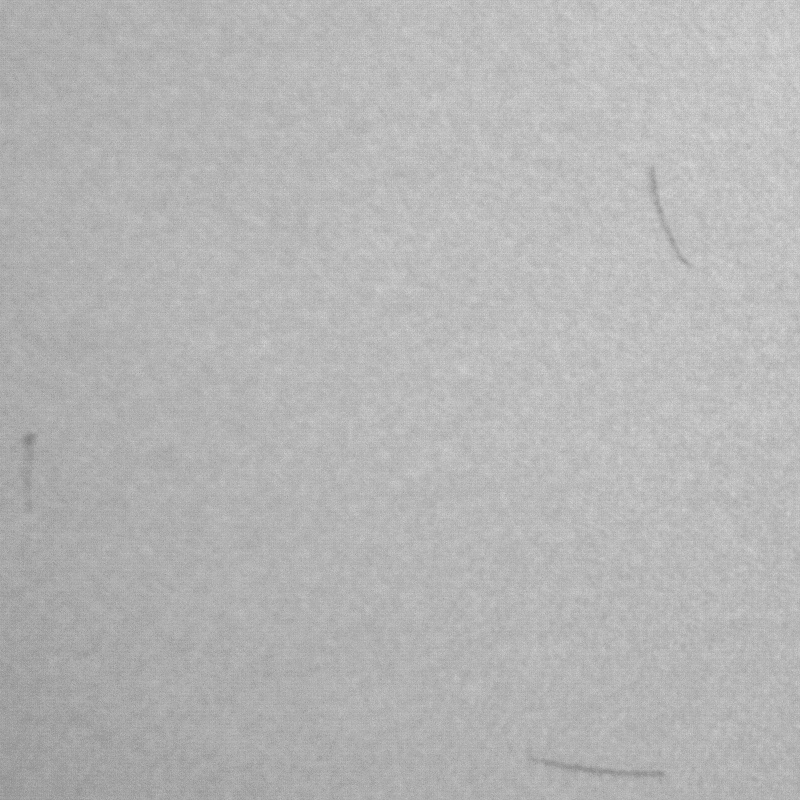defect: (644, 164, 695, 268), (530, 757, 673, 780), (24, 436, 33, 515)
